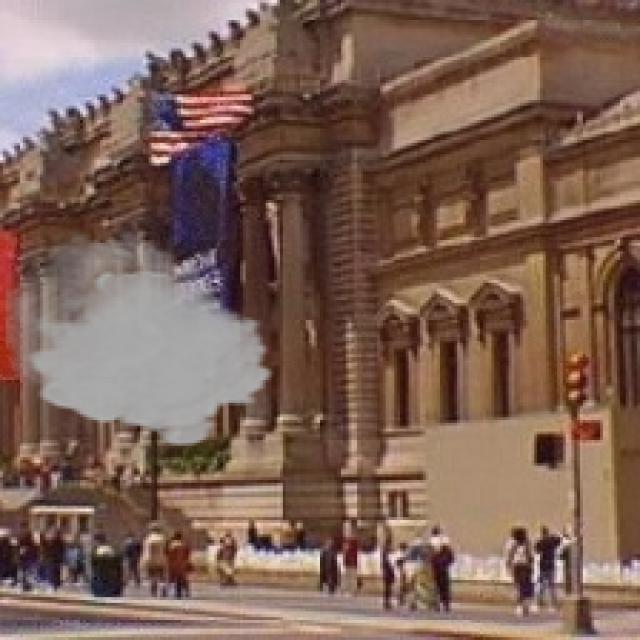Smoke: (6, 223, 278, 448)
